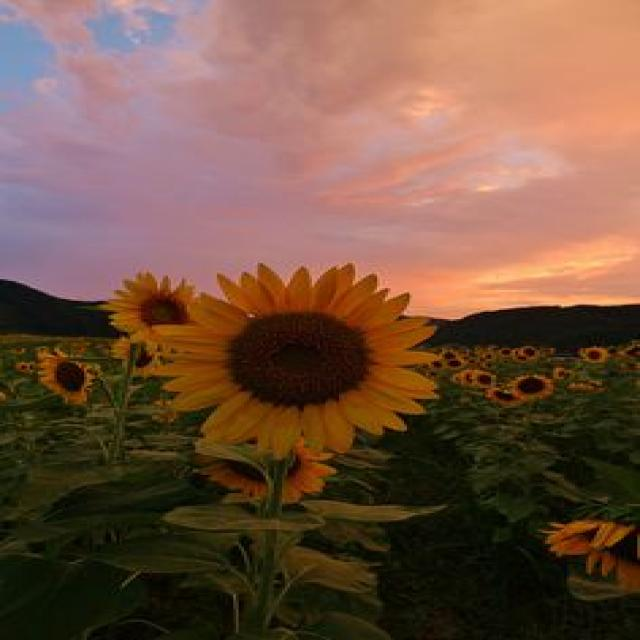sunflower: (155, 264, 442, 461), (545, 498, 640, 606), (199, 448, 346, 511), (101, 264, 208, 340), (32, 342, 98, 409), (510, 373, 553, 402), (471, 370, 499, 390), (573, 347, 609, 362), (516, 345, 540, 363)
